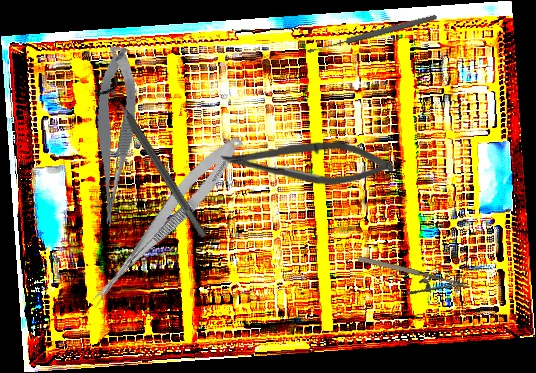Fixation Ring: (92, 76, 216, 244)
Micro Scissor: (82, 127, 250, 318), (77, 45, 149, 226), (219, 140, 395, 188)
Needle Holder: (352, 252, 471, 311)
Surgical Spoon: (306, 12, 438, 56)
